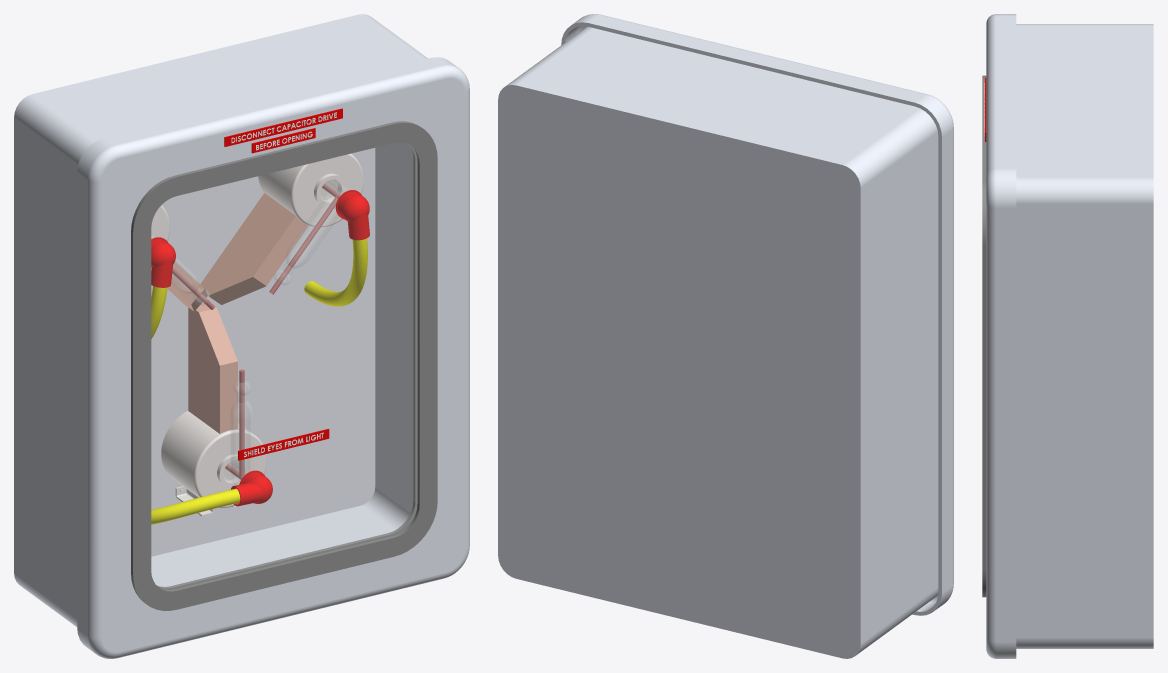
Rendered from flux-capacitor.glb.
3 renders of one model, left to right at view 1: azimuth 30°, elevation 25°; view 2: azimuth 150°, elevation 25°; view 3: azimuth 270°, elevation 25°, orthographic. The views are drawn at different scales.
Visible parts, largest first — view 1: FP-ENCLOSURE-1, FP-WINDOW-1, FP-ENCLOSURE-COVER-1, FP-SEAL-1, FP-PHASE-DIRECTOR-6, FP-INJECTOR-TAU-4, FP-PHASE-DIRECTOR-1, FP-INJECTOR-MUON-2, FP-WIRES-1, FP-VACUUM-CHAMBER-2, FP-VACUUM-CHAMBER-1, FP-LABEL2-1 (+9 smaller); view 2: FP-ENCLOSURE-1, FP-ENCLOSURE-COVER-1; view 3: FP-ENCLOSURE-1, FP-ENCLOSURE-COVER-1, FP-SEAL-1.
Boxes of the visible parts, x1=… form: FP-ENCLOSURE-1: x1=14, y1=14, x2=427, y2=626; FP-WINDOW-1: x1=152, y1=143, x2=416, y2=589; FP-ENCLOSURE-COVER-1: x1=77, y1=57, x2=469, y2=658; FP-SEAL-1: x1=131, y1=121, x2=437, y2=610; FP-PHASE-DIRECTOR-6: x1=200, y1=193, x2=308, y2=304; FP-INJECTOR-TAU-4: x1=161, y1=411, x2=266, y2=516; FP-PHASE-DIRECTOR-1: x1=188, y1=302, x2=237, y2=433; FP-INJECTOR-MUON-2: x1=258, y1=153, x2=363, y2=227; FP-WIRES-1: x1=151, y1=238, x2=367, y2=524; FP-VACUUM-CHAMBER-2: x1=274, y1=180, x2=347, y2=285; FP-VACUUM-CHAMBER-1: x1=223, y1=381, x2=252, y2=484; FP-LABEL2-1: x1=224, y1=108, x2=342, y2=146; FP-ENCLOSURE-1: x1=498, y1=26, x2=938, y2=658; FP-ENCLOSURE-COVER-1: x1=561, y1=14, x2=953, y2=615; FP-ENCLOSURE-1: x1=1016, y1=24, x2=1153, y2=648; FP-ENCLOSURE-COVER-1: x1=986, y1=14, x2=1016, y2=658; FP-SEAL-1: x1=982, y1=75, x2=986, y2=597.
Bounding box in the file's own units: 0.2667 × 0.3429 × 0.1092.
